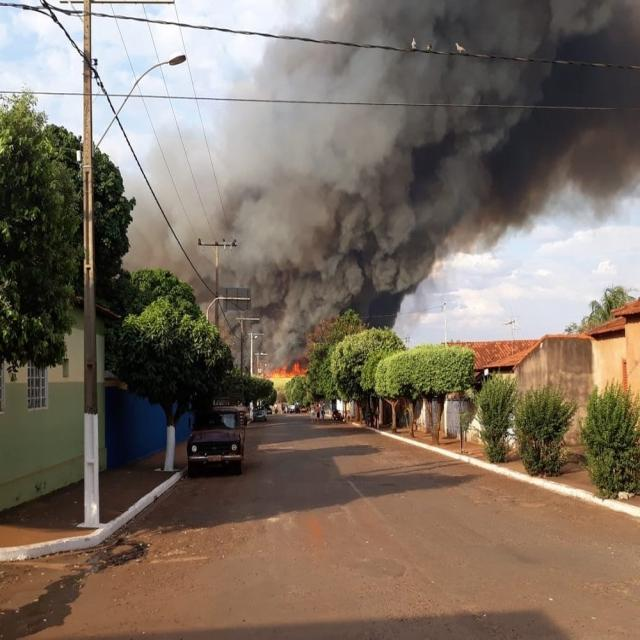Fire: (264, 364, 304, 388)
